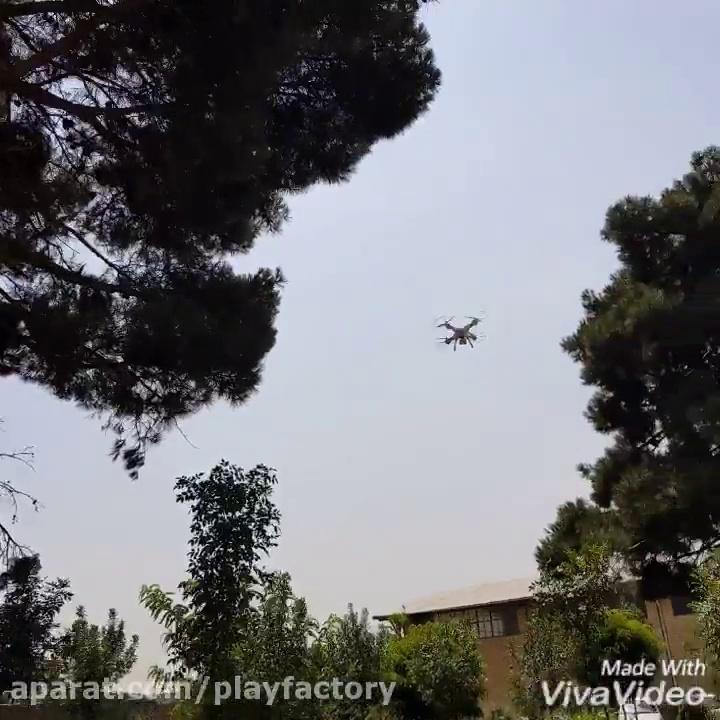drone: (429, 304, 494, 354)
